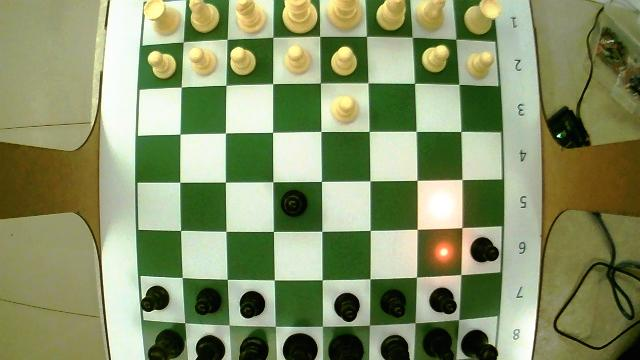piece: (144, 0, 180, 34), (150, 325, 183, 358), (284, 0, 316, 33), (235, 0, 267, 32), (328, 329, 363, 358), (327, 0, 361, 29), (286, 0, 316, 32), (415, 0, 445, 31), (423, 328, 453, 358), (464, 2, 493, 33), (462, 330, 495, 357), (375, 0, 403, 29), (283, 334, 316, 357), (191, 1, 219, 28), (195, 285, 223, 312), (240, 329, 266, 358), (148, 51, 175, 78), (190, 46, 216, 73), (281, 190, 307, 216), (228, 47, 253, 74), (420, 45, 447, 70), (380, 290, 405, 317), (331, 46, 355, 74), (380, 334, 407, 358), (335, 293, 359, 320), (284, 45, 307, 73), (472, 236, 496, 261), (240, 290, 263, 316), (196, 336, 223, 358), (431, 288, 455, 312), (143, 285, 167, 308), (467, 51, 492, 73), (332, 95, 355, 114)
